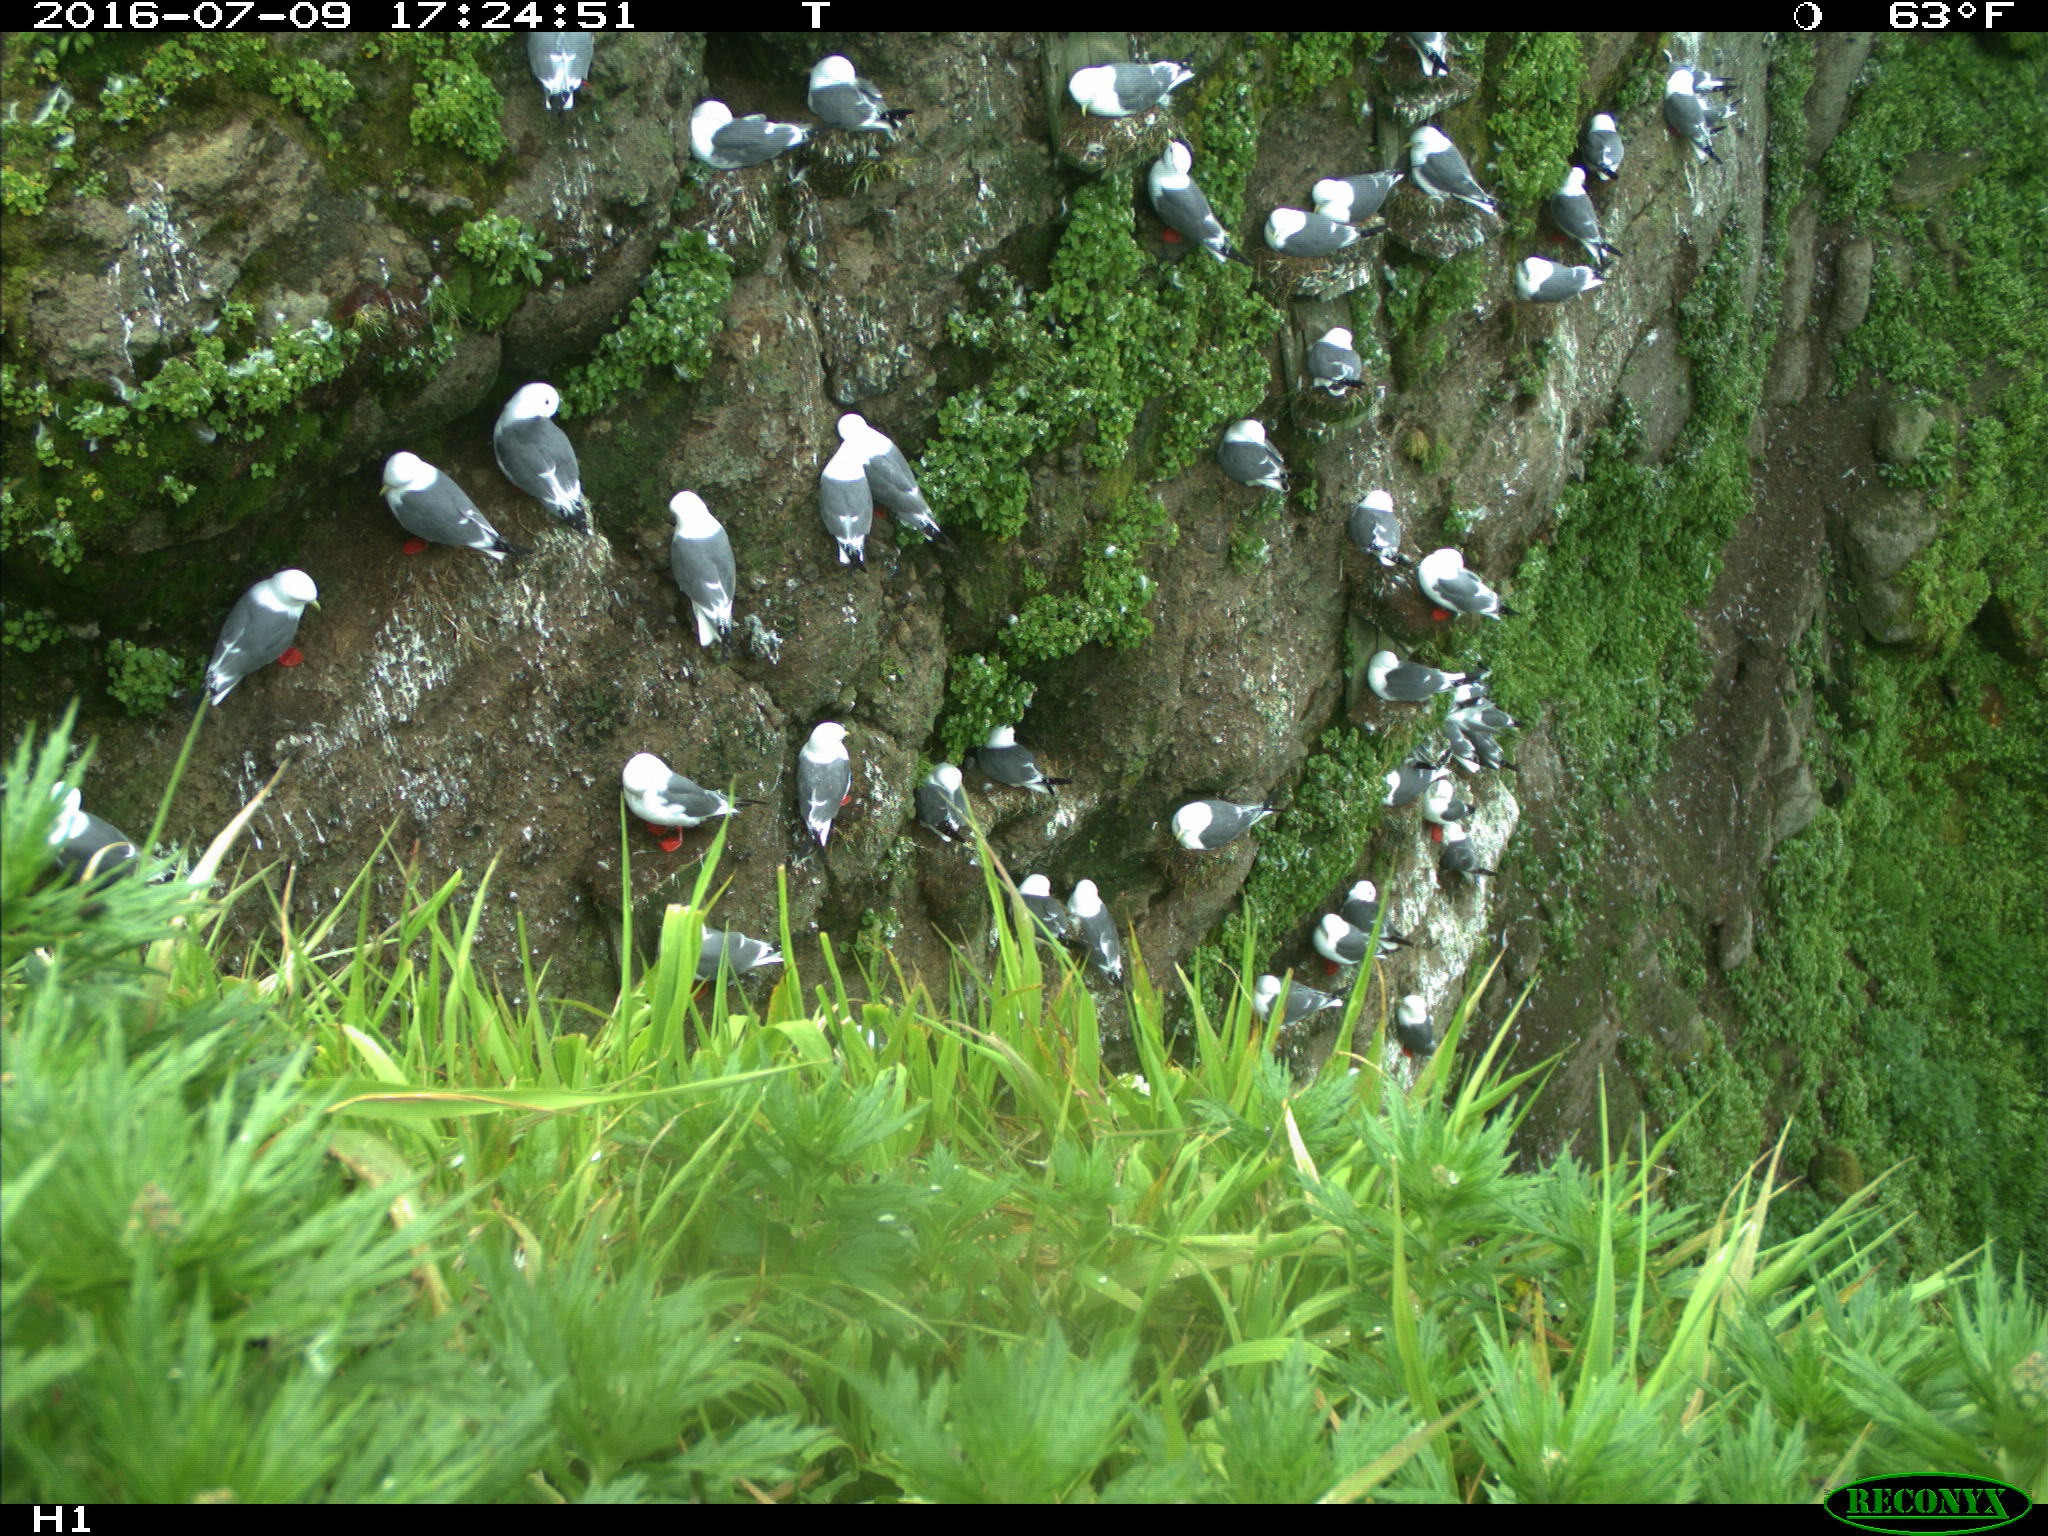Kittiwake: (126, 692, 318, 866), (0, 737, 190, 912), (356, 428, 522, 597), (621, 481, 784, 637), (818, 405, 966, 553), (1135, 129, 1263, 295), (572, 750, 693, 907), (463, 366, 595, 503), (779, 700, 922, 818), (801, 40, 926, 169), (1200, 394, 1326, 511), (1287, 324, 1429, 428), (671, 95, 826, 189), (677, 892, 800, 992), (1061, 35, 1221, 111), (1379, 124, 1500, 224), (1324, 466, 1437, 573), (502, 23, 621, 118), (1508, 240, 1621, 337), (1321, 144, 1413, 260), (818, 416, 905, 536), (1592, 81, 1675, 202), (1150, 799, 1287, 871), (1409, 532, 1488, 657), (1229, 945, 1322, 1050), (908, 747, 990, 865), (982, 697, 1055, 829), (1534, 152, 1613, 273), (1345, 645, 1467, 720), (1263, 186, 1355, 281), (1334, 866, 1426, 962), (1659, 60, 1730, 182), (1300, 900, 1405, 983), (1072, 870, 1126, 1007), (1006, 858, 1076, 963), (1414, 779, 1485, 849)
